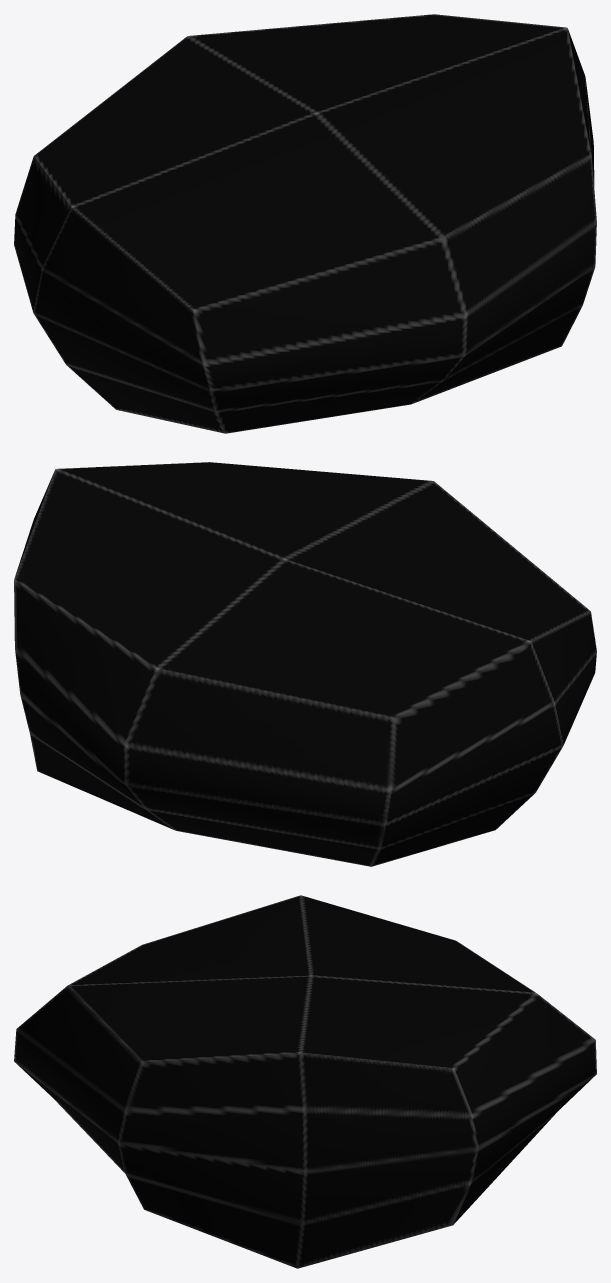
File: WideRock.obj
The picture shows the model from 3 angles, top to bottom: view 1: azimuth 30°, elevation 25°; view 2: azimuth 150°, elevation 25°; view 3: azimuth 270°, elevation 25°; orthographic projection. The views are drawn at different scales.
Visible parts, largest first — view 1: rockwideround; view 2: rockwideround; view 3: rockwideround.
Boxes of the visible parts, <box> form: rockwideround: <box>14,14,596,433</box>; rockwideround: <box>14,462,596,866</box>; rockwideround: <box>14,895,596,1268</box>.
Size of the model in its own units: 3.5 by 1.78 by 3.65.
